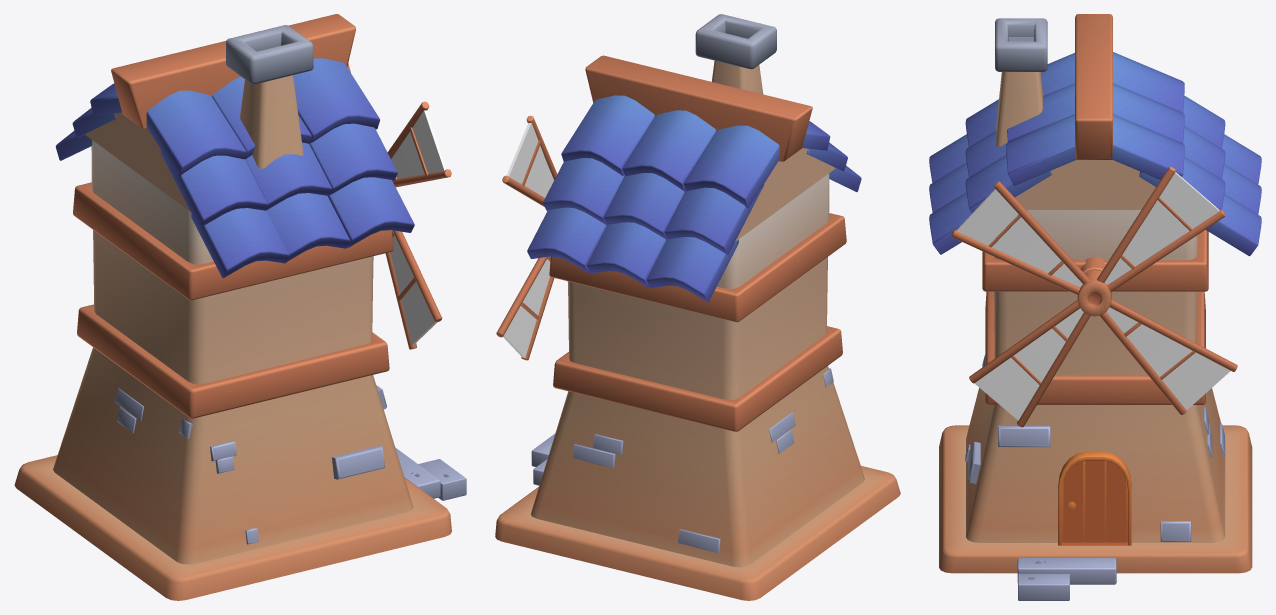
The model's file is gristmill.fbx.
3 views of the same model, side by side, from view 1: azimuth 30°, elevation 25°; view 2: azimuth 150°, elevation 25°; view 3: azimuth 270°, elevation 25° (orthographic). The views are drawn at different scales.
Parts seen in each view (by area): view 1: Cube.001, Cube.006, Cube.005, Cube.004, Cube.003, Cube.038, Cube.044, Cube.039, Cube.040, Cube.045, Cube.046, Cube.043 (+12 smaller); view 2: Cube.001, Cube.003, Cube.006, Cube.005, Cube.035, Cube.004, Cube.031, Cube.032, Cube.036, Cube.037, Cube.029, Cube.033 (+10 smaller); view 3: Cube.001, Cube.003, Cube.004, Cube.002, Cube.006, Cube.005, Cube.018, Cube.007, Cube.016, Cube.017, Cube.044, Cube.031 (+34 smaller).
Boxes of the visible parts, left/top/right/bottom form: Cube.001: left=14, top=140, right=451, bottom=600; Cube.006: left=77, top=304, right=389, bottom=418; Cube.005: left=73, top=182, right=393, bottom=300; Cube.004: left=226, top=25, right=313, bottom=168; Cube.003: left=111, top=14, right=355, bottom=128; Cube.038: left=146, top=90, right=246, bottom=177; Cube.044: left=293, top=58, right=379, bottom=142; Cube.039: left=160, top=151, right=268, bottom=227; Cube.040: left=191, top=208, right=289, bottom=278; Cube.045: left=309, top=123, right=397, bottom=194; Cube.046: left=328, top=177, right=414, bottom=247; Cube.043: left=266, top=193, right=350, bottom=263; Cube.001: left=495, top=173, right=900, bottom=600; Cube.003: left=585, top=55, right=812, bottom=161; Cube.006: left=553, top=326, right=842, bottom=431; Cube.005: left=549, top=213, right=846, bottom=322; Cube.035: left=684, top=125, right=779, bottom=208; Cube.004: left=695, top=14, right=776, bottom=94; Cube.031: left=561, top=95, right=654, bottom=175; Cube.032: left=622, top=110, right=716, bottom=191; Cube.036: left=664, top=184, right=764, bottom=254; Cube.037: left=646, top=237, right=738, bottom=302; Cube.029: left=543, top=158, right=624, bottom=224; Cube.033: left=604, top=173, right=685, bottom=239; Cube.001: left=939, top=210, right=1252, bottom=573; Cube.003: left=1075, top=14, right=1112, bottom=159; Cube.004: left=995, top=18, right=1047, bottom=147; Cube.002: left=1015, top=160, right=1155, bottom=209; Cube.006: left=985, top=291, right=1205, bottom=404; Cube.005: left=982, top=230, right=1208, bottom=291; Cube.018: left=1106, top=307, right=1230, bottom=410; Cube.007: left=1104, top=172, right=1219, bottom=284; Cube.016: left=956, top=189, right=1082, bottom=287; Cube.017: left=974, top=308, right=1083, bottom=420; Cube.044: left=1006, top=114, right=1075, bottom=185; Cube.031: left=1111, top=114, right=1184, bottom=179.
Bounding box in the file's own units: 740 × 1059 × 667.
1 material, 1 textured.
